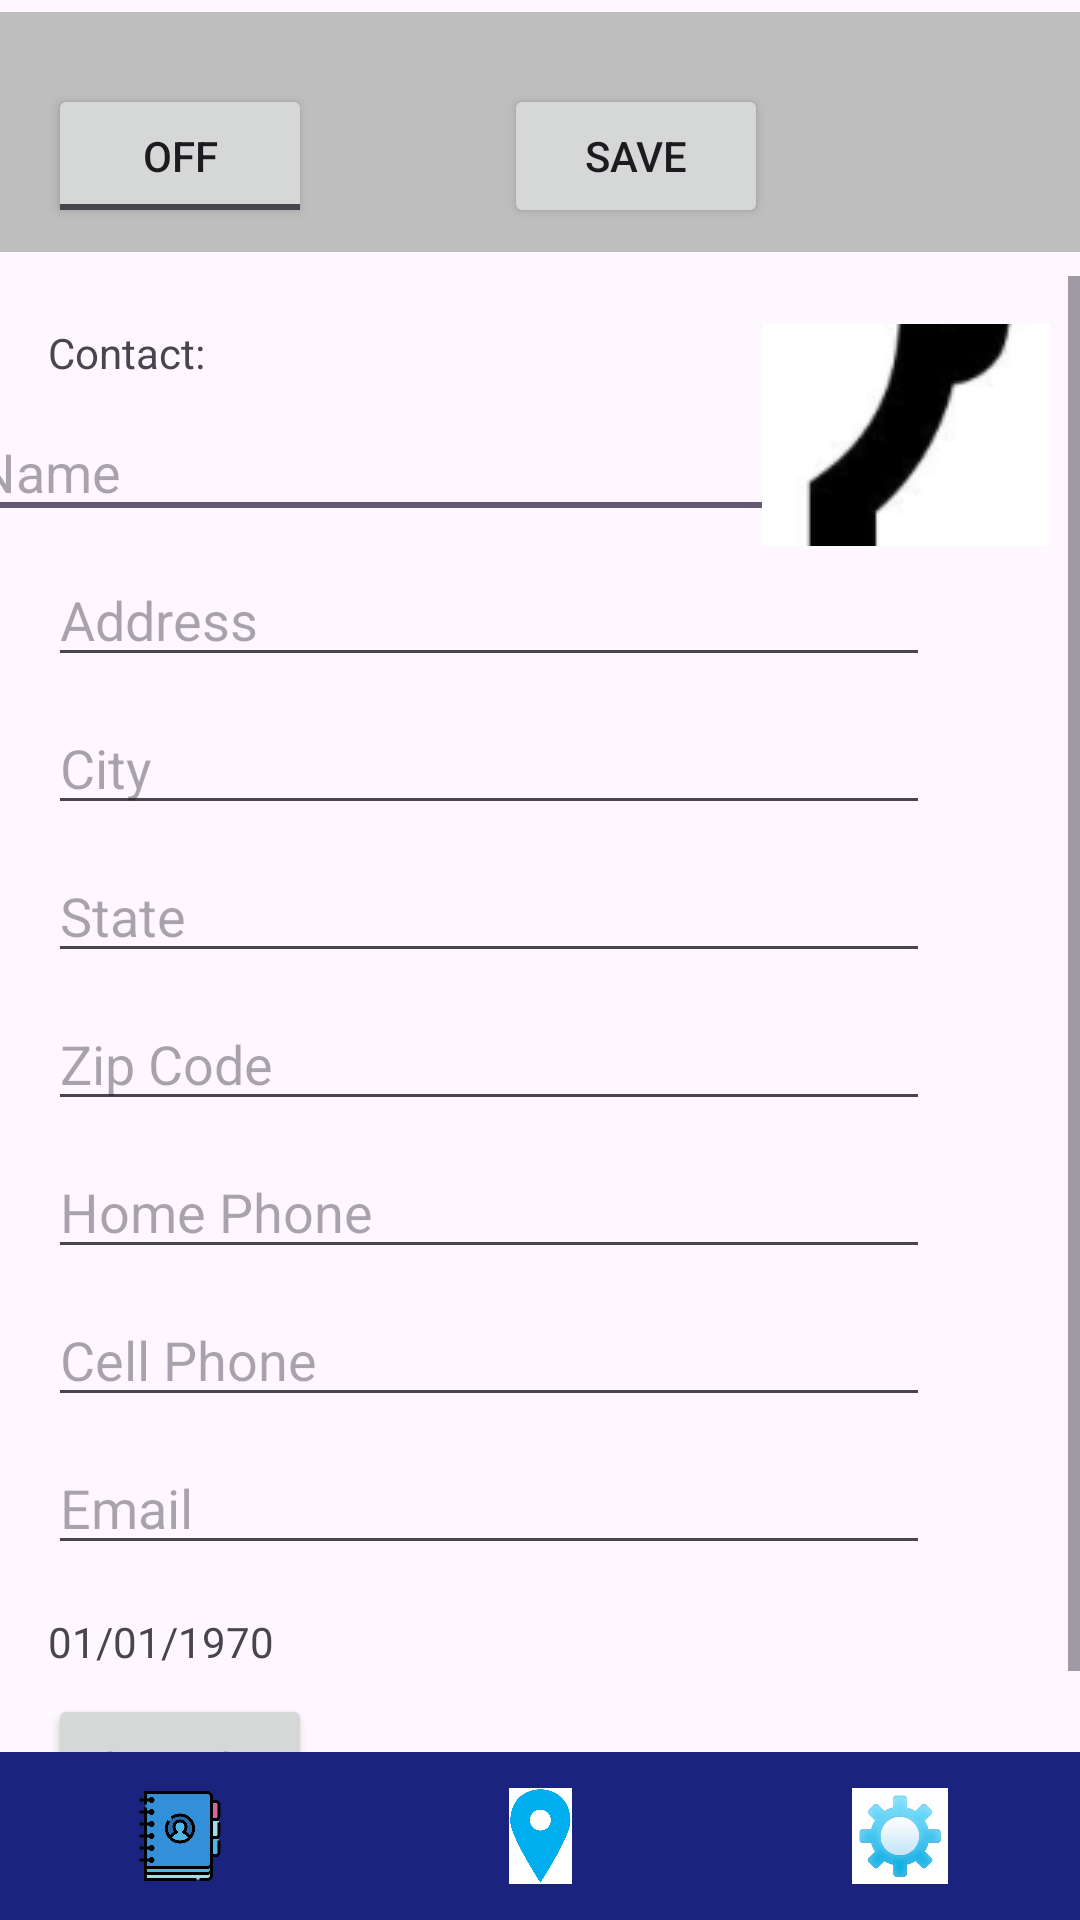

Named icons in this screenshot (1080w x 1920h) and their centers, [x,y]:
Button to display a list of contacts: [180,1836]
Button to display a map of contacts: [540,1836]
Button to display settings: [900,1836]
